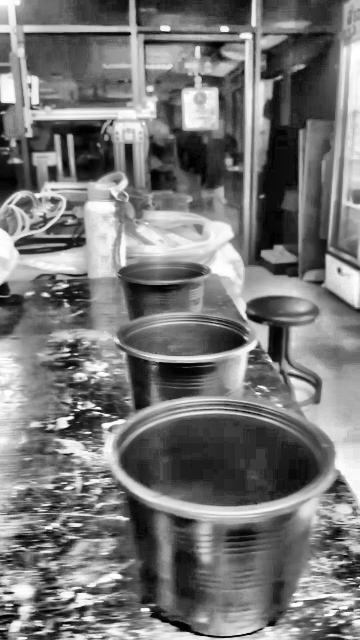pot: (109, 399, 335, 633), (115, 313, 256, 410), (117, 261, 210, 319)
